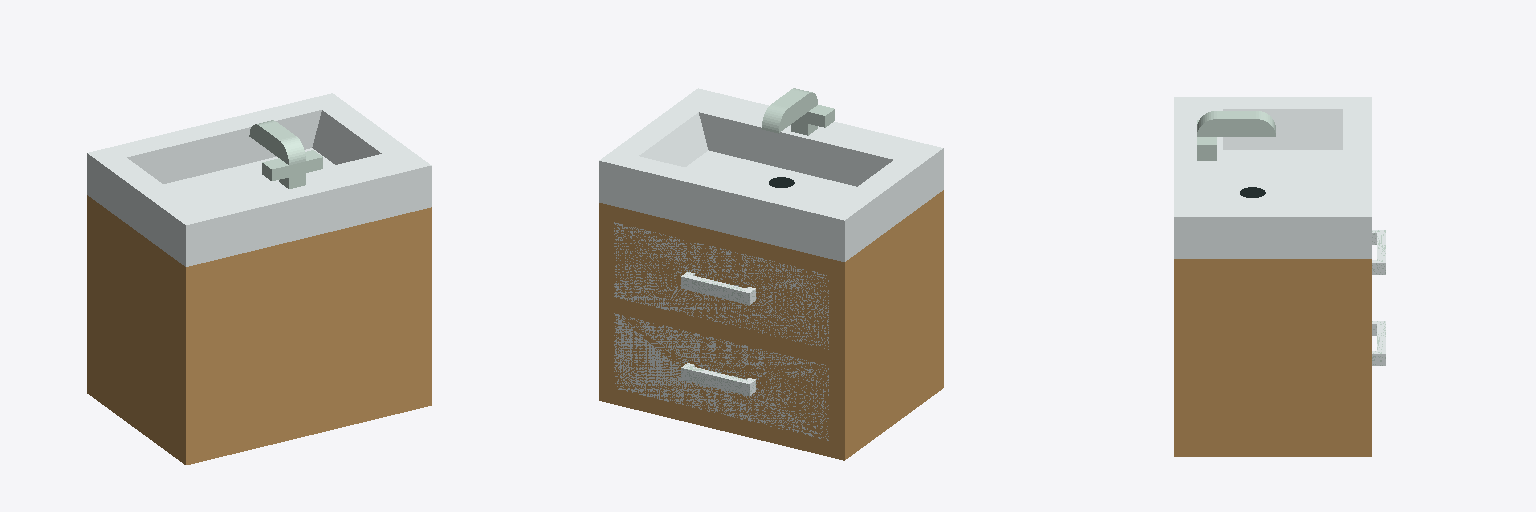
File: kitchenCabinetDrawer.obj
3 views of the same model, side by side, from view 1: azimuth 30°, elevation 25°; view 2: azimuth 150°, elevation 25°; view 3: azimuth 270°, elevation 25° (orthographic).
Parts seen in each view (by area): view 1: kitchenCabinetDrawer; view 2: kitchenCabinetDrawer, drawerBottom, drawerTop; view 3: kitchenCabinetDrawer, drawerBottom, drawerTop.
Part boxes in pixels (bbox=[...]): kitchenCabinetDrawer: bbox=[87, 93, 431, 464]; kitchenCabinetDrawer: bbox=[599, 88, 943, 460]; drawerBottom: bbox=[614, 313, 828, 440]; drawerTop: bbox=[614, 222, 828, 349]; kitchenCabinetDrawer: bbox=[1174, 97, 1371, 456]; drawerBottom: bbox=[1372, 321, 1385, 365]; drawerTop: bbox=[1372, 230, 1385, 274].
Bounding box in the file's own units: 4.3 × 4.72 × 3.2.